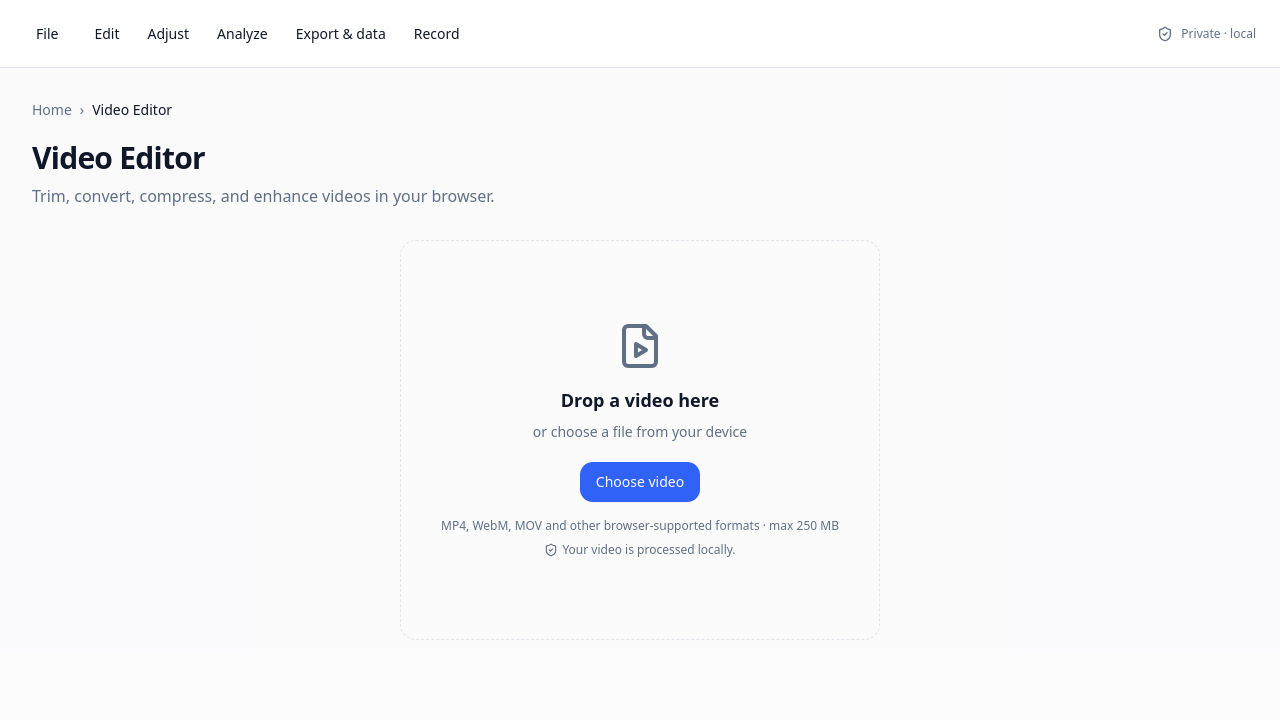
Test: VideoWorkbench › renders the Video Editor empty state and shared File menu
The width and height of the screenshot is (1280, 720).
expect the heading "Video Editor" is shown: met, box [32, 137, 205, 178]
expect the heading "Drop a video here" is shown: met, box [561, 386, 719, 414]
Click the button with aria-label "File menu": (47, 34) [24, 16, 70, 52]
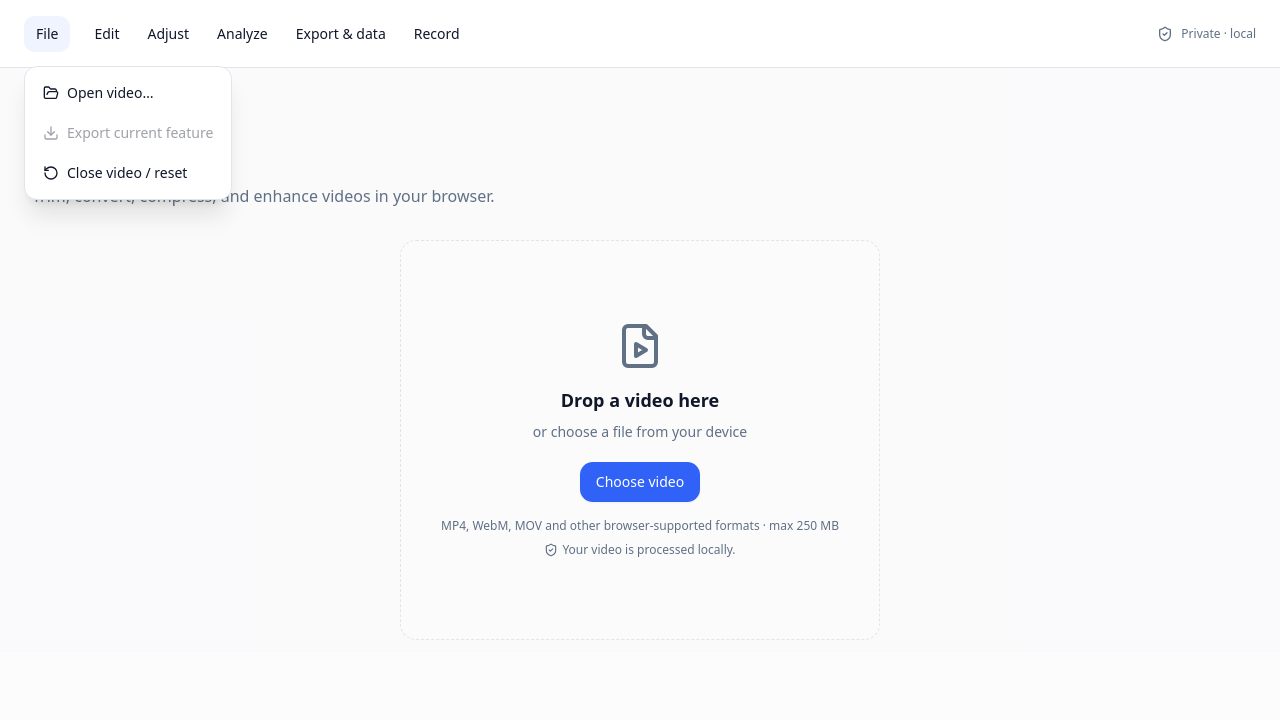
expect the element with test id "video-file-menu" is shown: met, box [24, 66, 232, 200]
expect the button "Open video…" is shown: met, box [31, 73, 225, 113]
